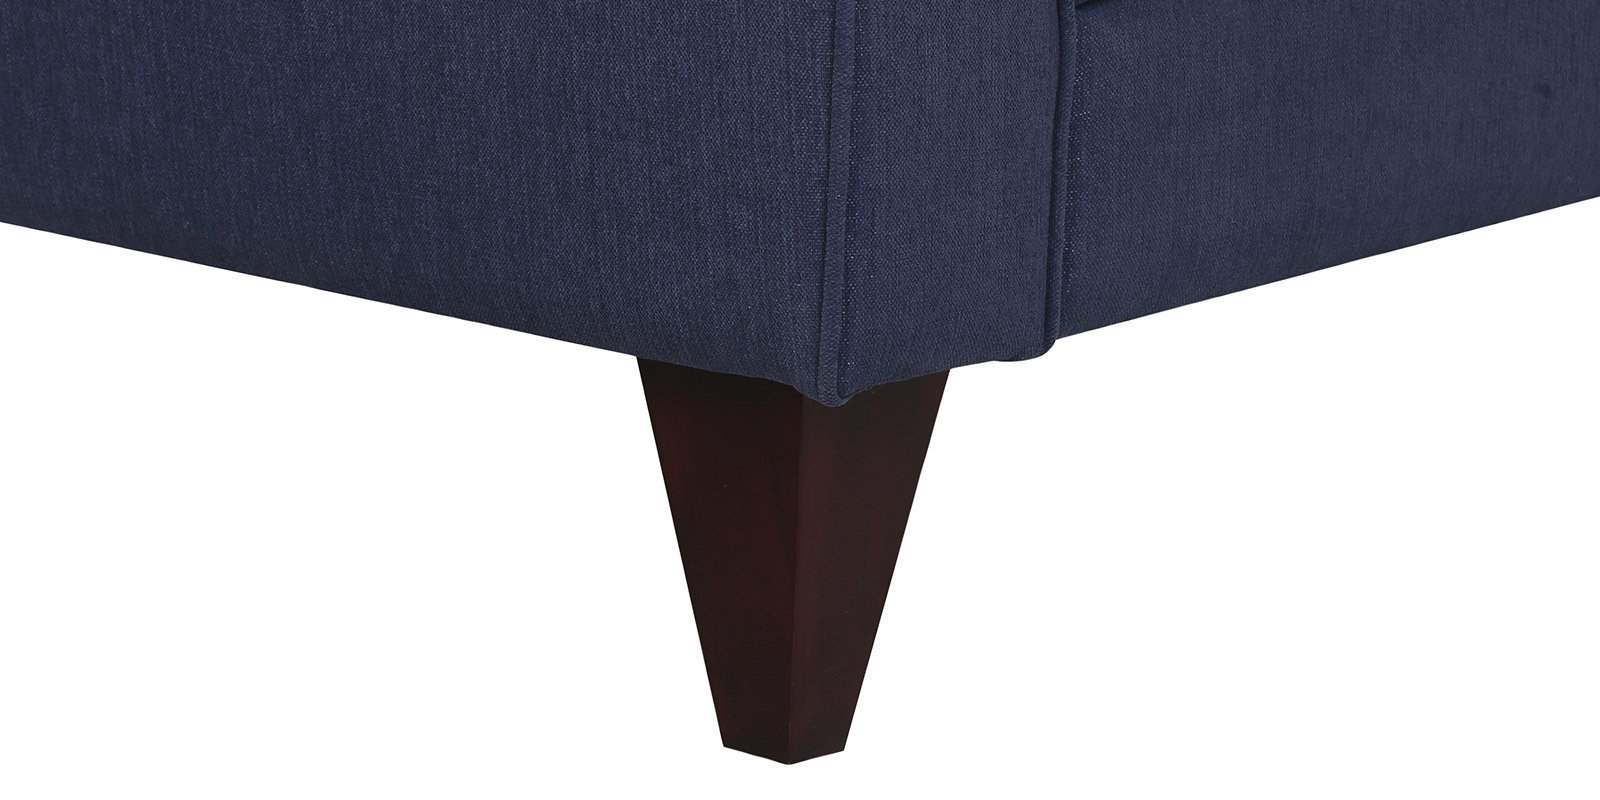Fuego Three Seater Sofa in Navy Blue Colour by CasaCraft: (3, 10, 1600, 790)
